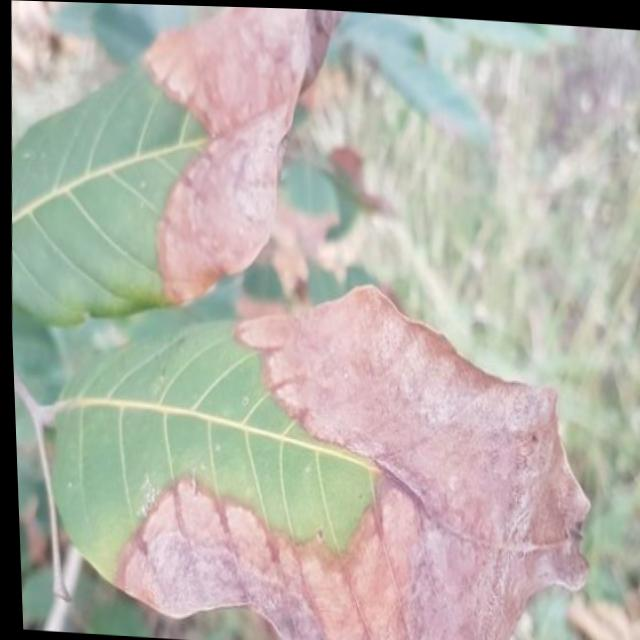Leaf Blight: (135, 266, 624, 640), (136, 3, 413, 310)
